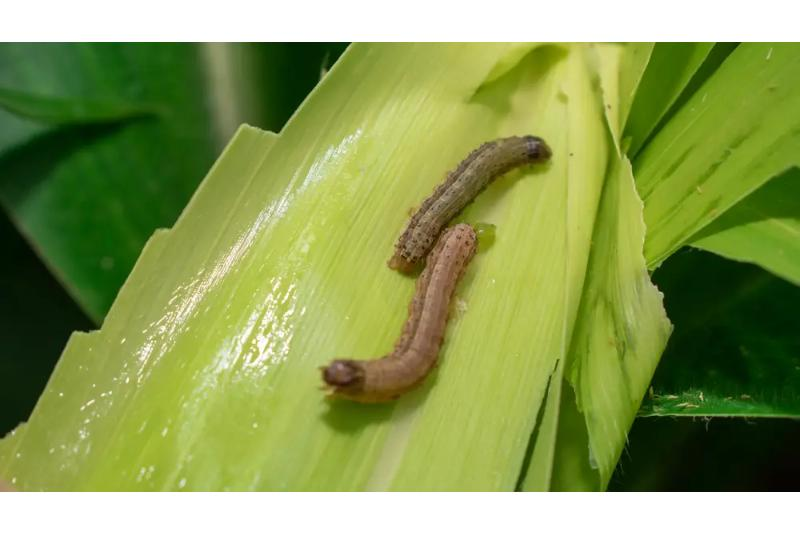fall-armyworm: (319, 223, 482, 406), (389, 135, 554, 275)
